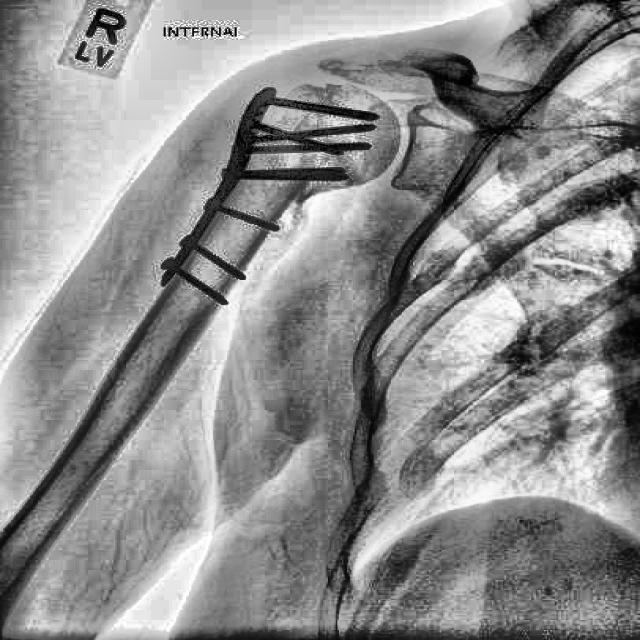shoulder fracture: (255, 180, 335, 227)
